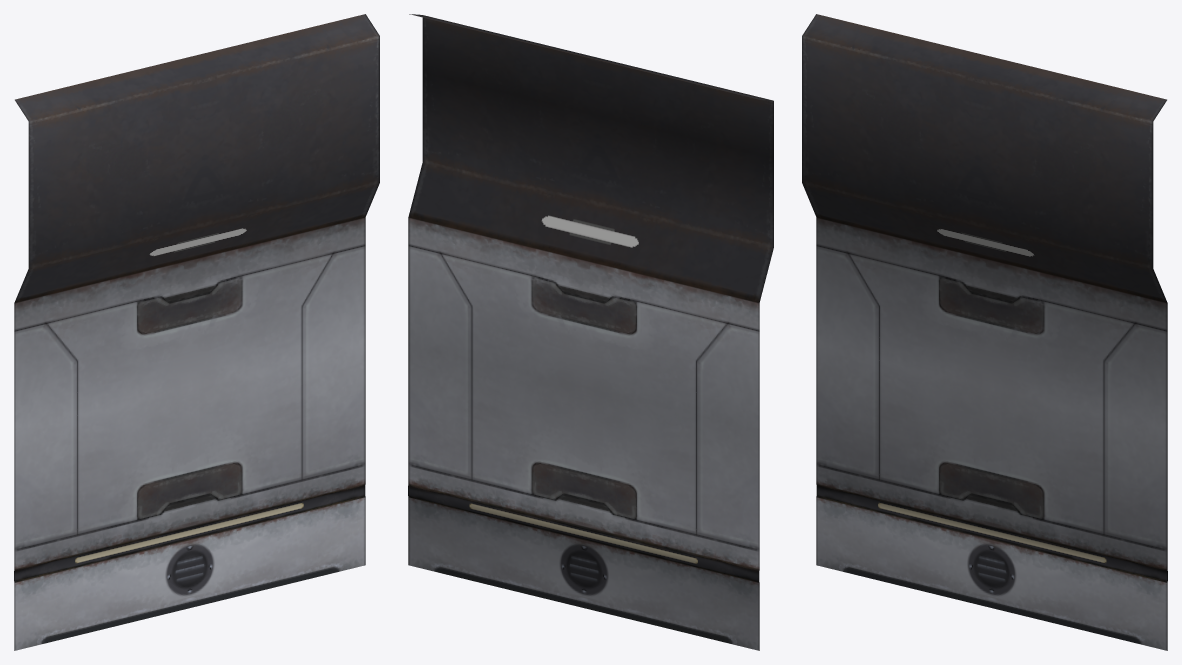
File: ROOM_WALL.fbx
3 renders of one model, left to right at view 1: azimuth 30°, elevation 25°; view 2: azimuth 150°, elevation 25°; view 3: azimuth 330°, elevation 25°, orthographic.
Parts seen in each view (by area): view 1: ROOM_WALL; view 2: ROOM_WALL; view 3: ROOM_WALL.
Part boxes in pixels (x1,y1,x2,y2): ROOM_WALL: [14, 14, 379, 650]; ROOM_WALL: [408, 14, 773, 650]; ROOM_WALL: [802, 14, 1167, 650].
Size of the model in its own units: 4 by 6 by 0.2912.
